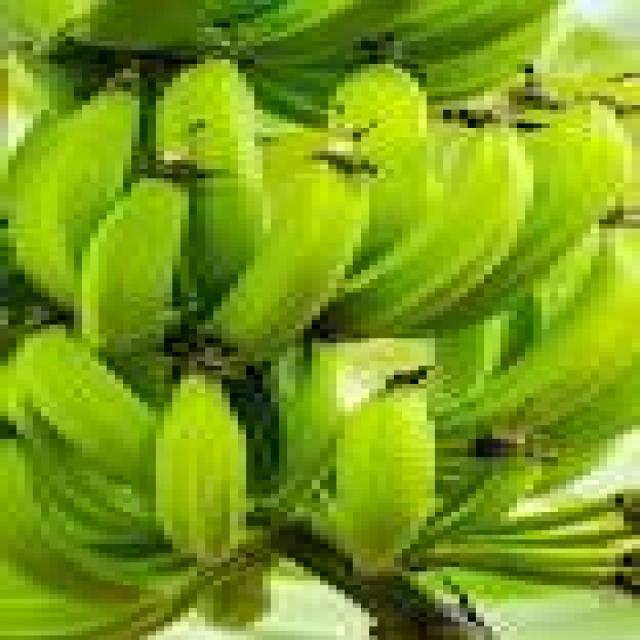banana: (329, 124, 533, 338), (435, 229, 639, 438), (444, 101, 631, 324), (206, 142, 369, 361), (9, 83, 139, 306), (156, 60, 270, 306), (0, 439, 139, 603), (17, 325, 155, 484), (329, 64, 434, 260), (329, 384, 434, 571), (17, 407, 155, 539), (83, 179, 188, 351), (156, 375, 246, 562), (419, 439, 541, 548), (427, 293, 541, 406), (271, 343, 344, 511), (238, 0, 418, 63), (411, 19, 549, 100), (0, 567, 155, 639), (542, 357, 639, 461), (394, 0, 557, 59), (427, 544, 639, 589), (74, 0, 229, 50), (247, 64, 352, 127), (263, 124, 328, 201), (197, 563, 270, 630), (0, 0, 90, 45)
